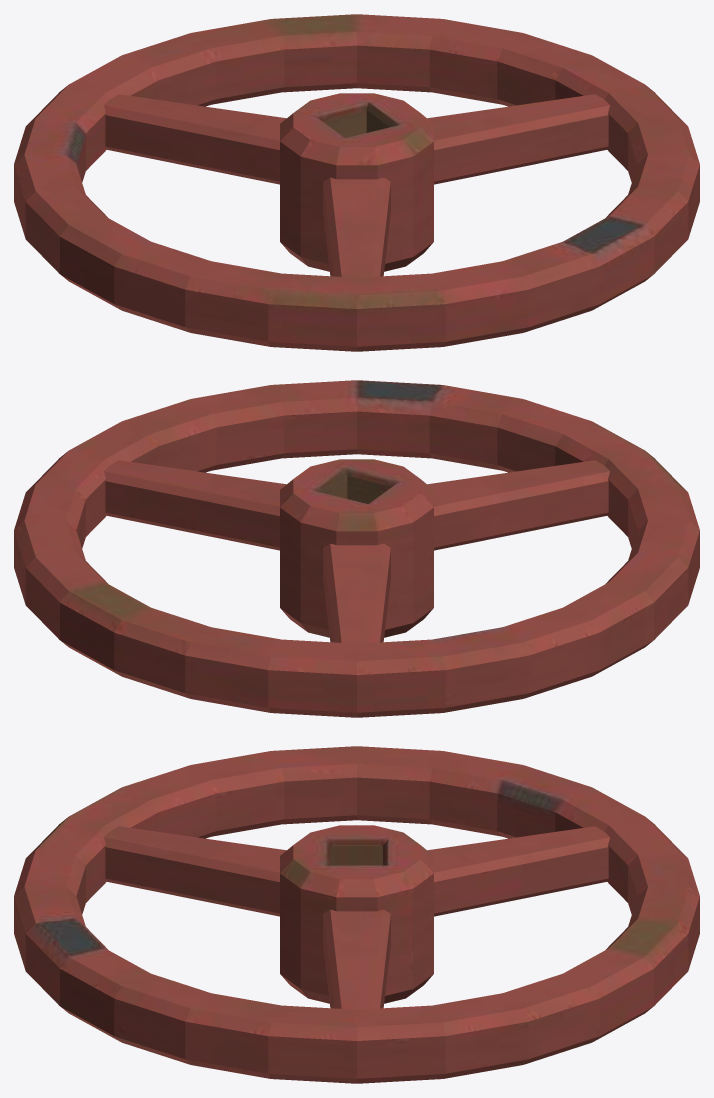
File: P20_colored_valve_handles_v1.glb
3 renders of one model, top to bottom at view 1: azimuth 30°, elevation 25°; view 2: azimuth 150°, elevation 25°; view 3: azimuth 270°, elevation 25°, orthographic.
Visible parts, largest first — view 1: Valve handwheel; view 2: Valve handwheel; view 3: Valve handwheel.
Part boxes in pixels (x1=…): Valve handwheel: x1=14, y1=14, x2=699, y2=351; Valve handwheel: x1=14, y1=380, x2=699, y2=717; Valve handwheel: x1=14, y1=746, x2=699, y2=1083.
Size of the model in its own units: 0.2 by 0.0404 by 0.2.
3 materials, 3 textured.
